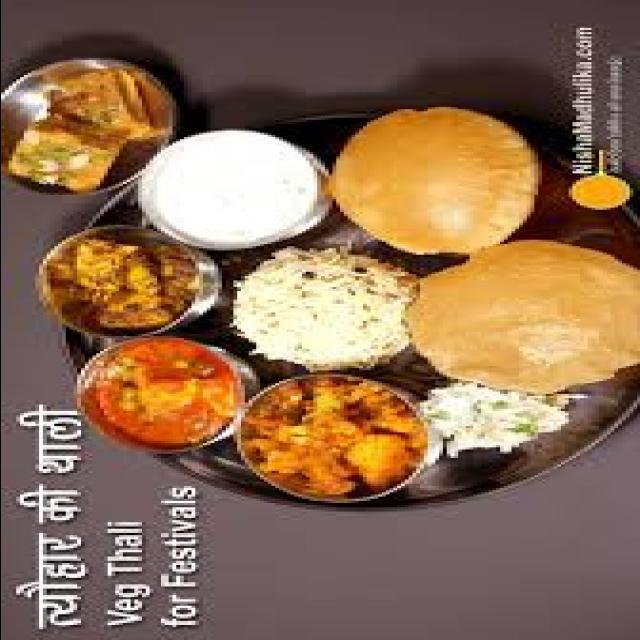curd: (120, 126, 326, 259)
papad: (417, 243, 638, 401)
rice: (218, 248, 420, 376), (425, 378, 559, 455)
veg: (68, 334, 264, 468)
veg-fry: (215, 375, 445, 505)
